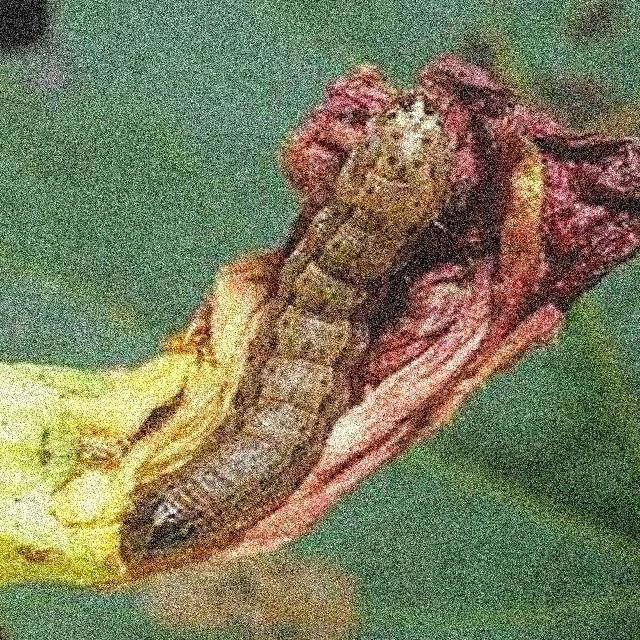gusano_cogollero: (134, 86, 456, 563)
